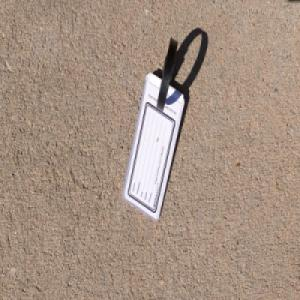LuggageTag: (122, 35, 186, 222)
